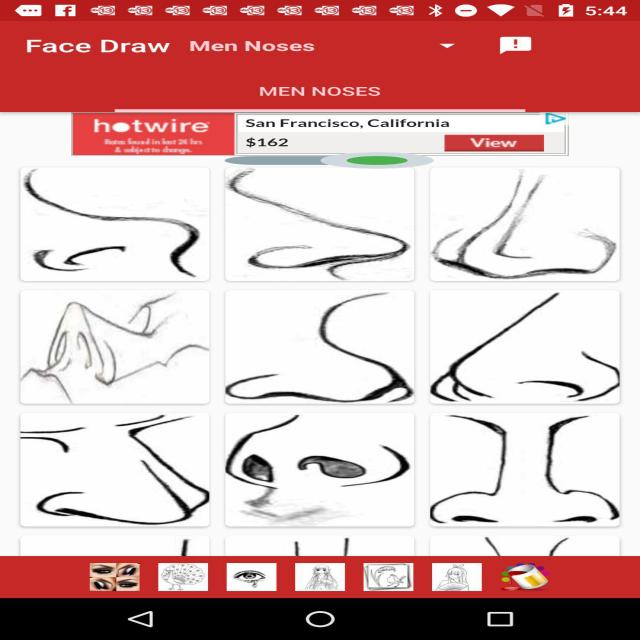social proof: (224, 145, 433, 176)
